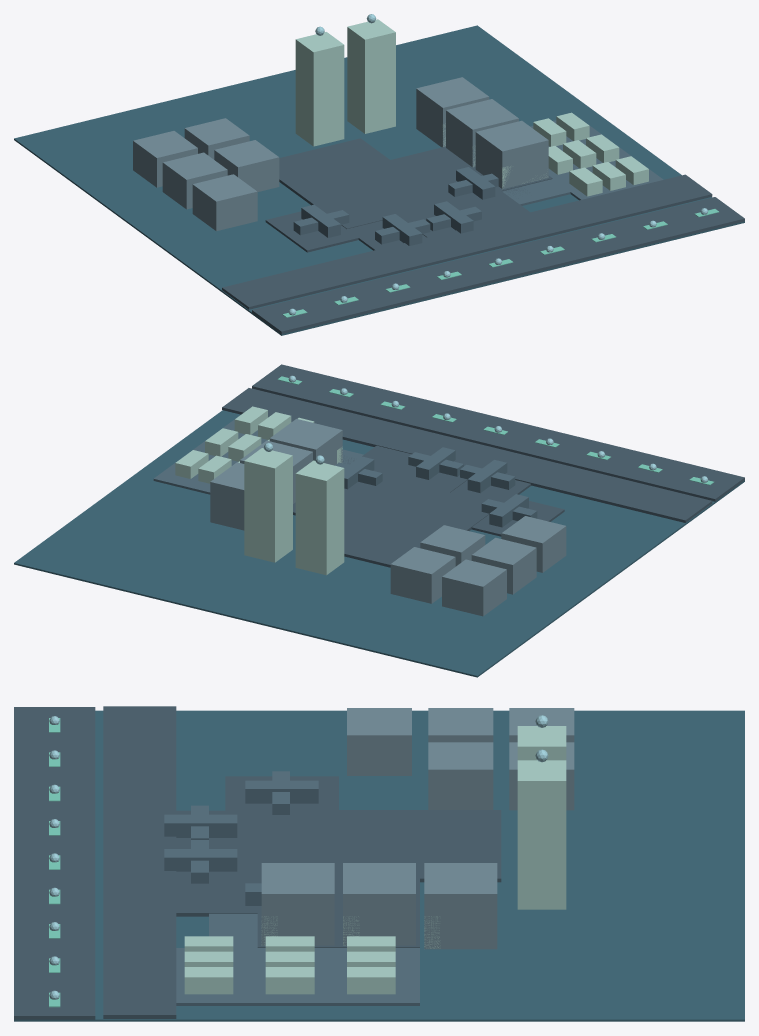
Rendered from stage_24.glb.
3 views of the same model, one above another, from view 1: azimuth 30°, elevation 25°; view 2: azimuth 150°, elevation 25°; view 3: azimuth 270°, elevation 25° (orthographic). The views are drawn at different scales.
Parts seen in each view (by area): view 1: geometry_0; view 2: geometry_0; view 3: geometry_0.
Boxes of the visible parts, box(x1,y1,x2,y2) form: geometry_0: box(14, 14, 744, 335); geometry_0: box(14, 364, 744, 677); geometry_0: box(14, 706, 744, 1021).
Size of the model in its own units: 9 by 2.06 by 9.
